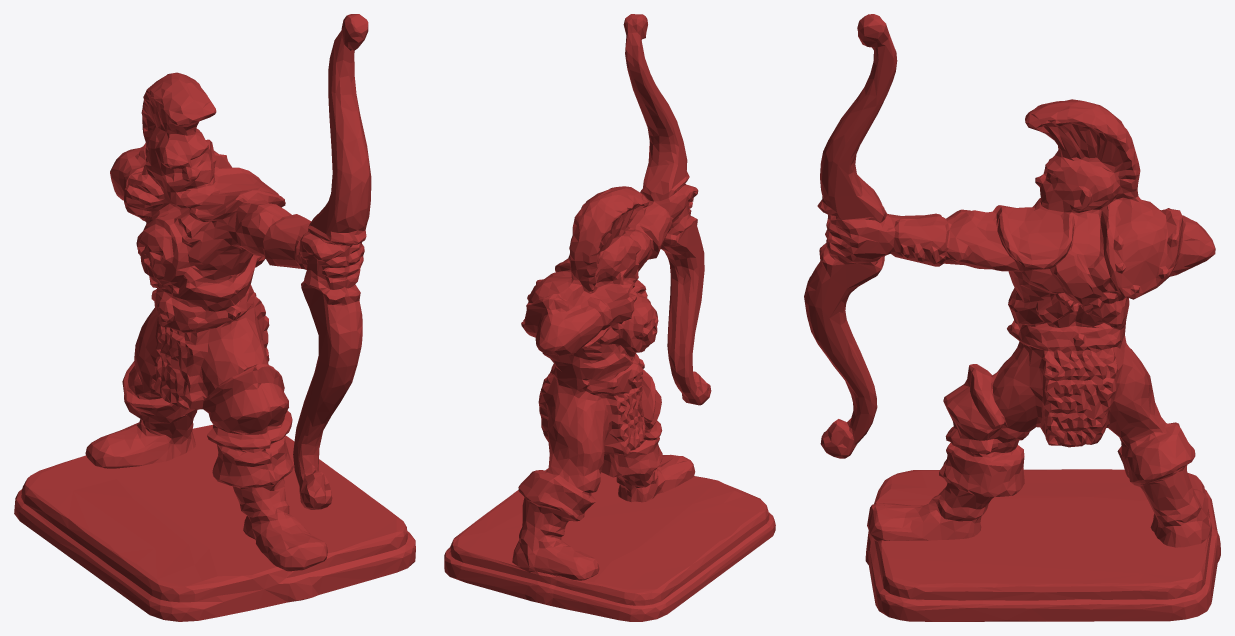
File: chaos_bowman.glb
The picture shows the model from 3 angles, left to right: view 1: azimuth 30°, elevation 25°; view 2: azimuth 150°, elevation 25°; view 3: azimuth 270°, elevation 25°; orthographic projection. The views are drawn at different scales.
Visible parts, largest first — view 1: chaos_archer_chaos_army; view 2: chaos_archer_chaos_army; view 3: chaos_archer_chaos_army.
Boxes of the visible parts, box(x1,y1,x2,y2) form: chaos_archer_chaos_army: box(14, 14, 415, 621); chaos_archer_chaos_army: box(444, 14, 775, 621); chaos_archer_chaos_army: box(804, 14, 1220, 621).
Size of the model in its own units: 12.64 by 25.88 by 17.25.
